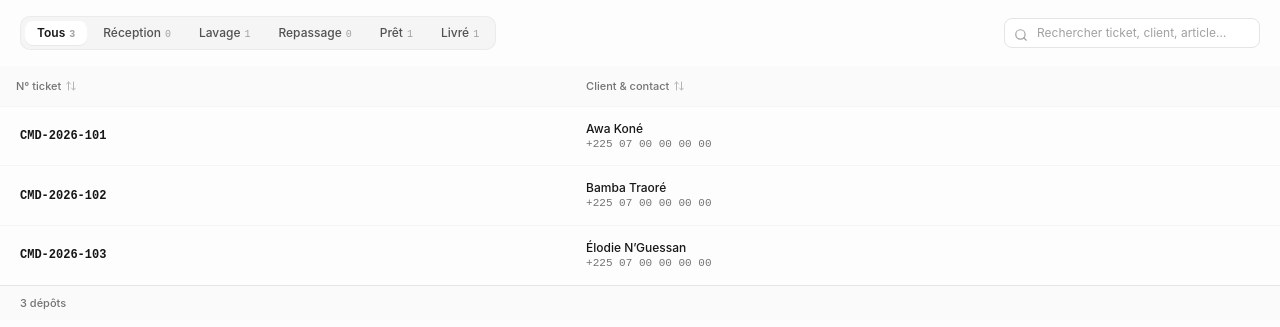
Test case: OrdersTable — lecture du comptoir › recherche par ticket, client, téléphone ou article, sans tenir compte des accents
Type "elodie" into the search field named "Rechercher un dépôt" at {"x": 1132, "y": 33}, box [1004, 18, 1260, 48]
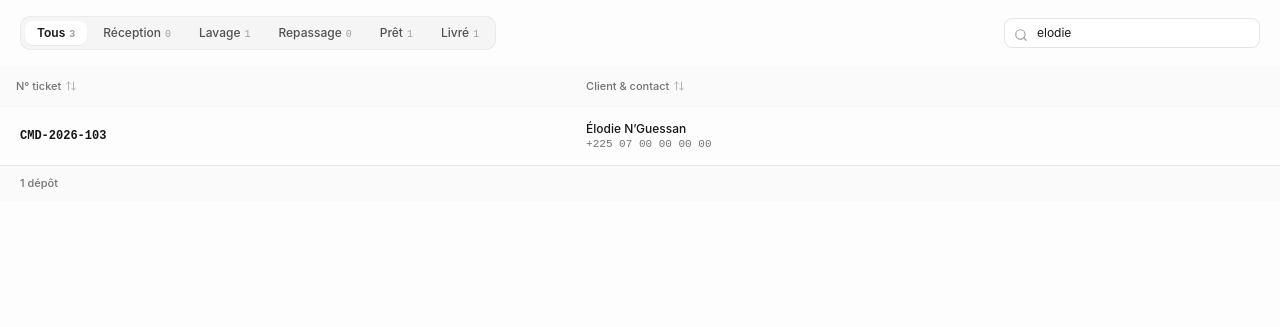
Expected: the text "Élodie N’Guessan" is shown, [586, 121, 686, 136]
Replace the text in the search field named "Rechercher un dépôt" with "costume" at {"x": 1132, "y": 33}, box [1004, 18, 1260, 48]
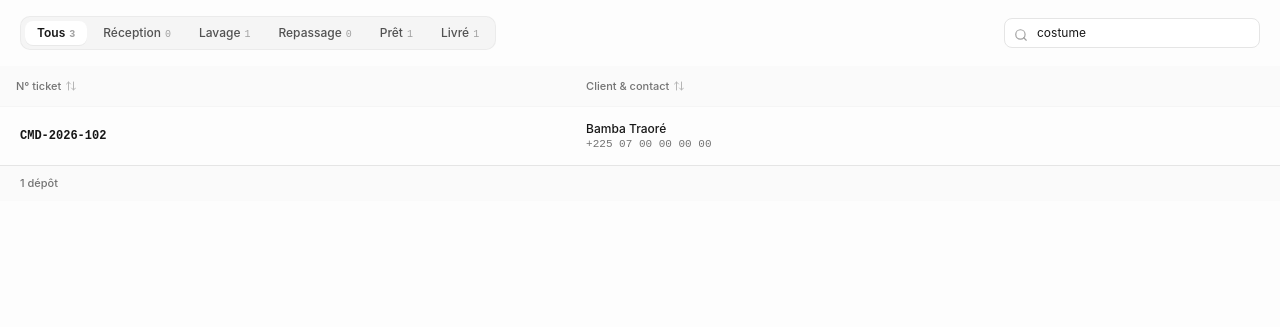
Expected: the text "CMD-2026-102" is shown, [0, 106, 570, 166]
Replace the text in the search field named "Rechercher un dépôt" with "introuvable" at {"x": 1132, "y": 33}, box [1004, 18, 1260, 48]
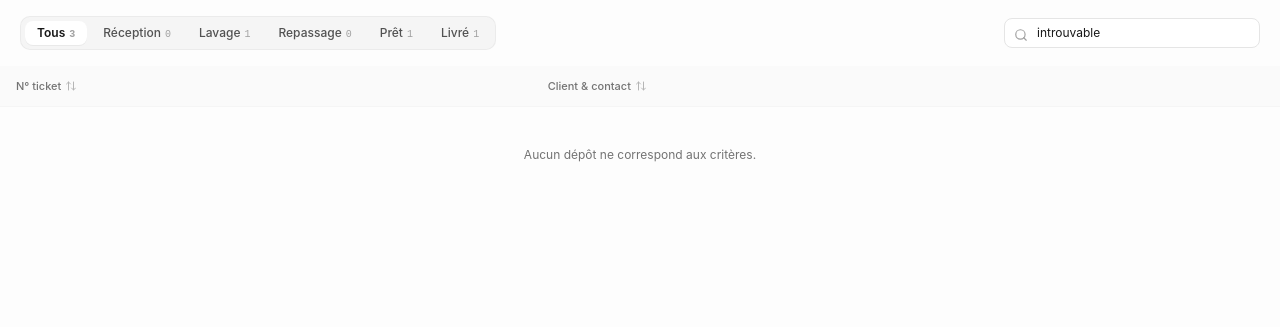
Expected: the text "Aucun dépôt ne correspond aux critères." is shown, [0, 106, 1279, 203]
